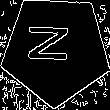N_E: (31, 29, 81, 71)
